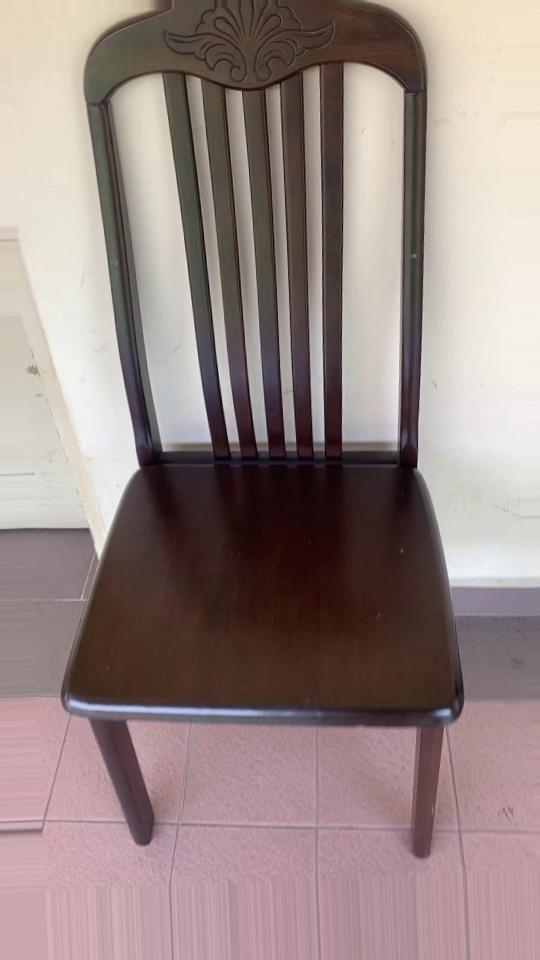chair: (62, 0, 481, 863)
